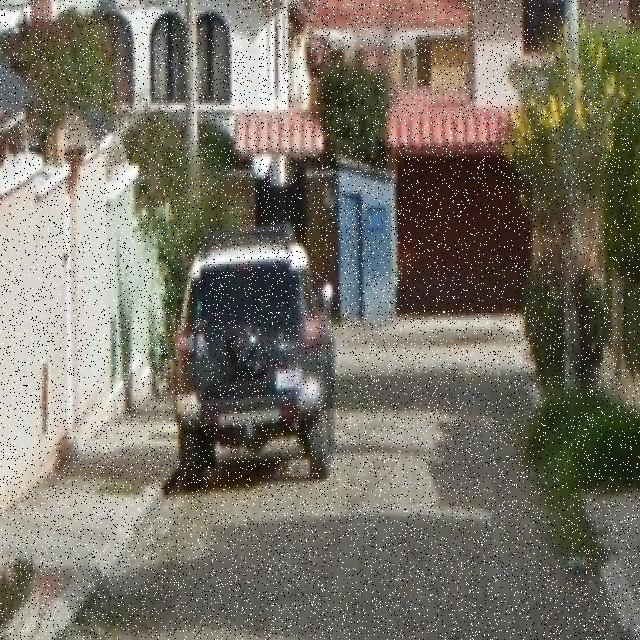cars: (170, 228, 335, 486)
